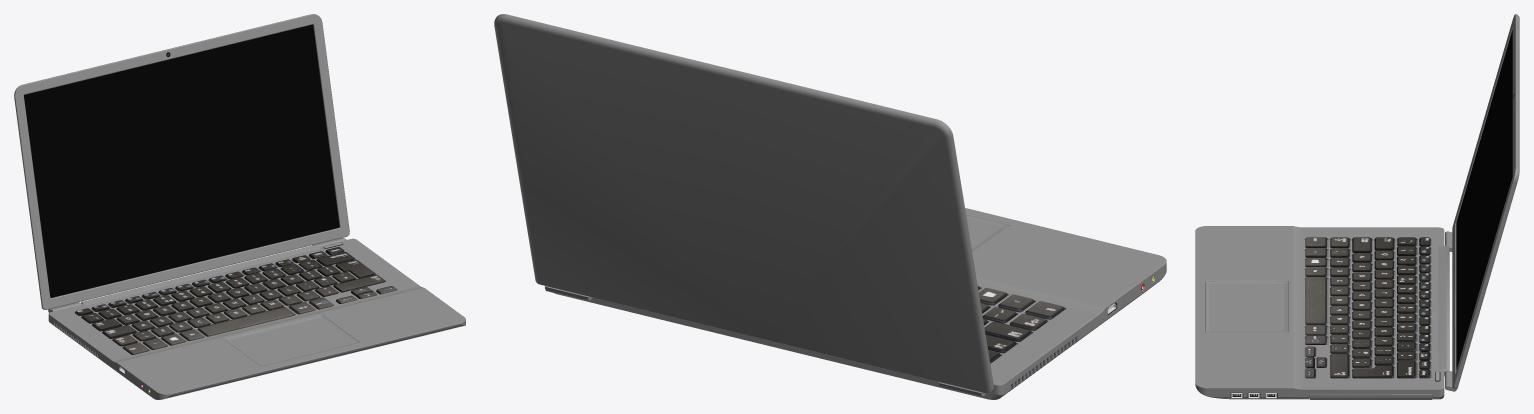
The model's file is laptop.glb.
3 renders of one model, left to right at view 1: azimuth 30°, elevation 25°; view 2: azimuth 150°, elevation 25°; view 3: azimuth 270°, elevation 25°, orthographic. The views are drawn at different scales.
Visible parts, largest first — view 1: screen_2, Laptop_4, keyboard_1; view 2: screen_2, Laptop_4, keyboard_1; view 3: Laptop_4, keyboard_1, screen_2.
Boxes of the visible parts, left/top/right/bottom form: screen_2: left=14, top=14, right=349, bottom=312; Laptop_4: left=48, top=238, right=465, bottom=399; keyboard_1: left=75, top=247, right=396, bottom=354; screen_2: left=494, top=14, right=993, bottom=397; Laptop_4: left=554, top=208, right=1166, bottom=399; keyboard_1: left=977, top=286, right=1064, bottom=363; Laptop_4: left=1195, top=226, right=1449, bottom=399; keyboard_1: left=1305, top=237, right=1430, bottom=378; screen_2: left=1445, top=14, right=1519, bottom=391.
Bounding box in the file's own units: 6.27 × 4.15 × 5.31.
9 materials, 1 textured.
